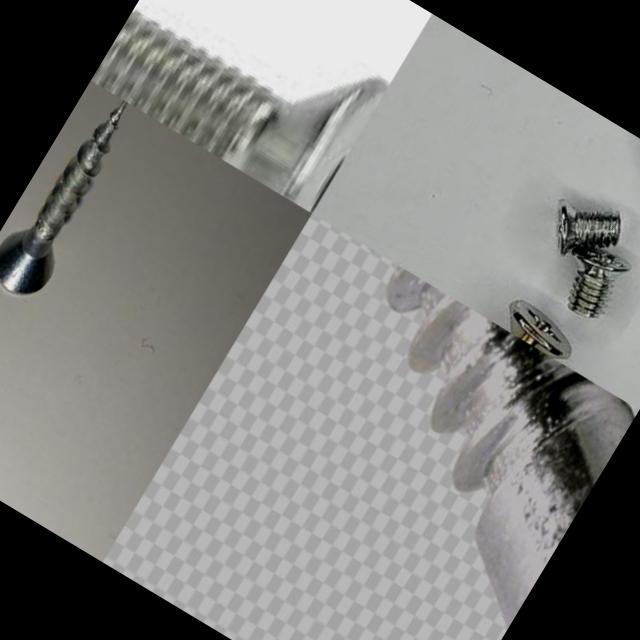Screw: (388, 265, 634, 628), (90, 12, 389, 214), (0, 100, 128, 294), (555, 201, 629, 318), (507, 301, 568, 359)
